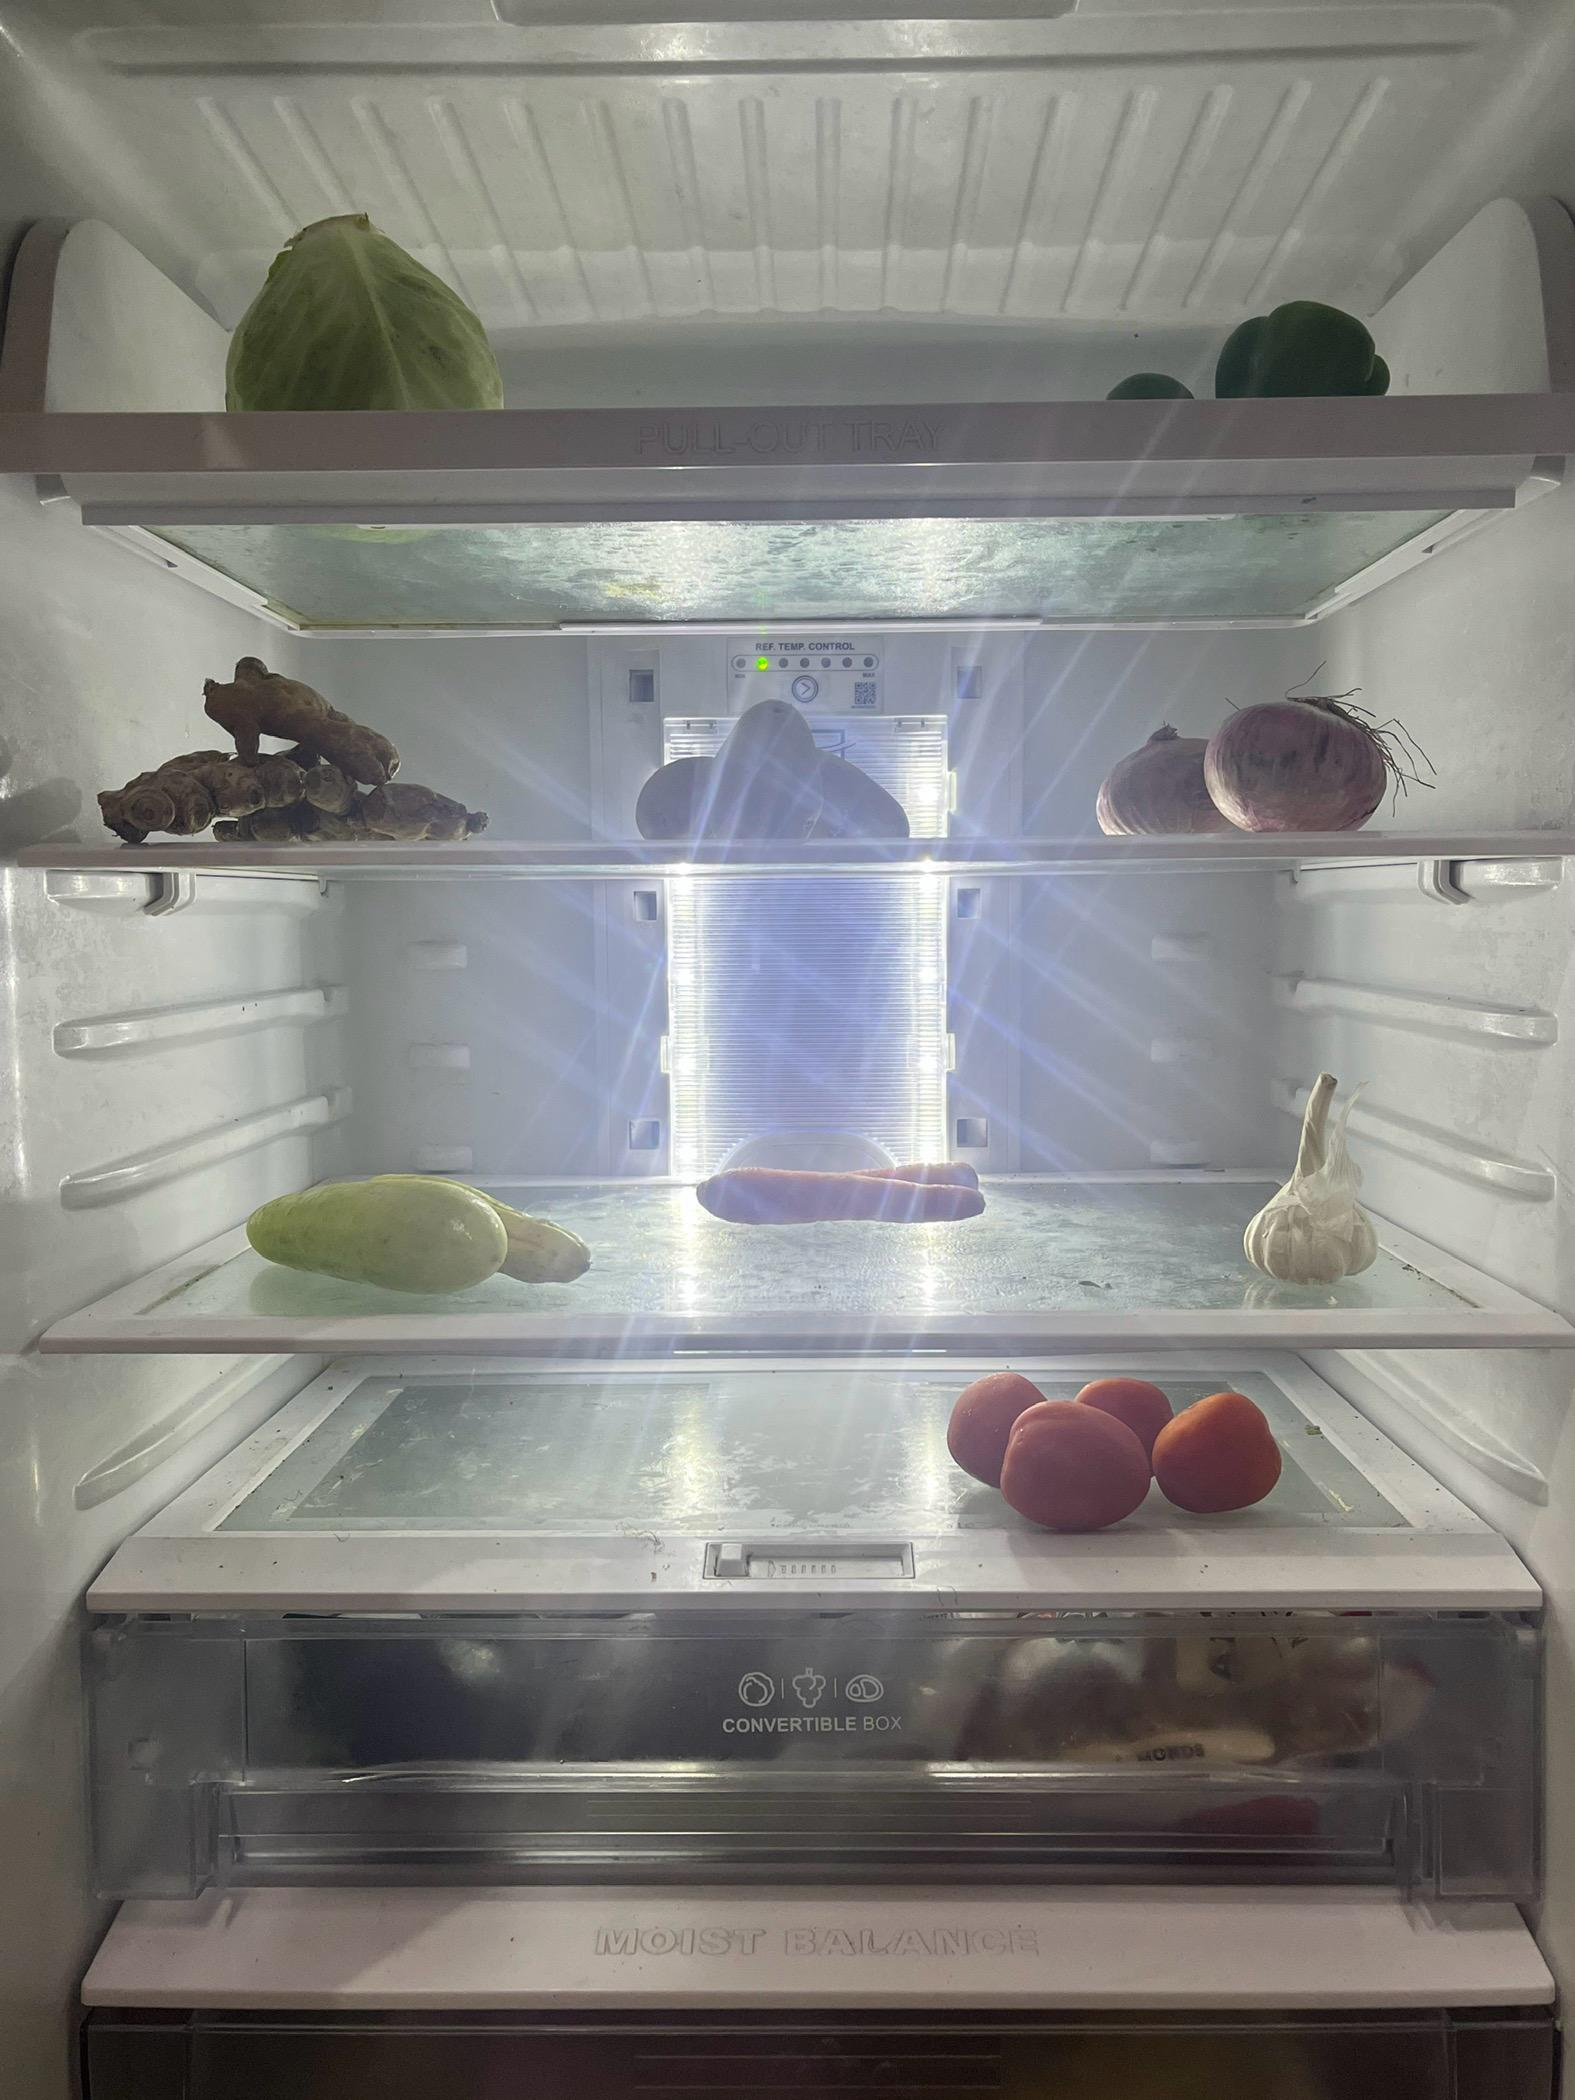cabbage: (200, 210, 516, 407)
capsicum: (1113, 266, 1410, 397)
carrots: (700, 1157, 1003, 1230)
cucumber: (227, 1171, 601, 1290)
garlic: (96, 650, 493, 850), (1251, 1053, 1390, 1280)
onion: (1090, 690, 1403, 830)
potato: (640, 703, 933, 847)
tomato: (933, 1374, 1290, 1526)
